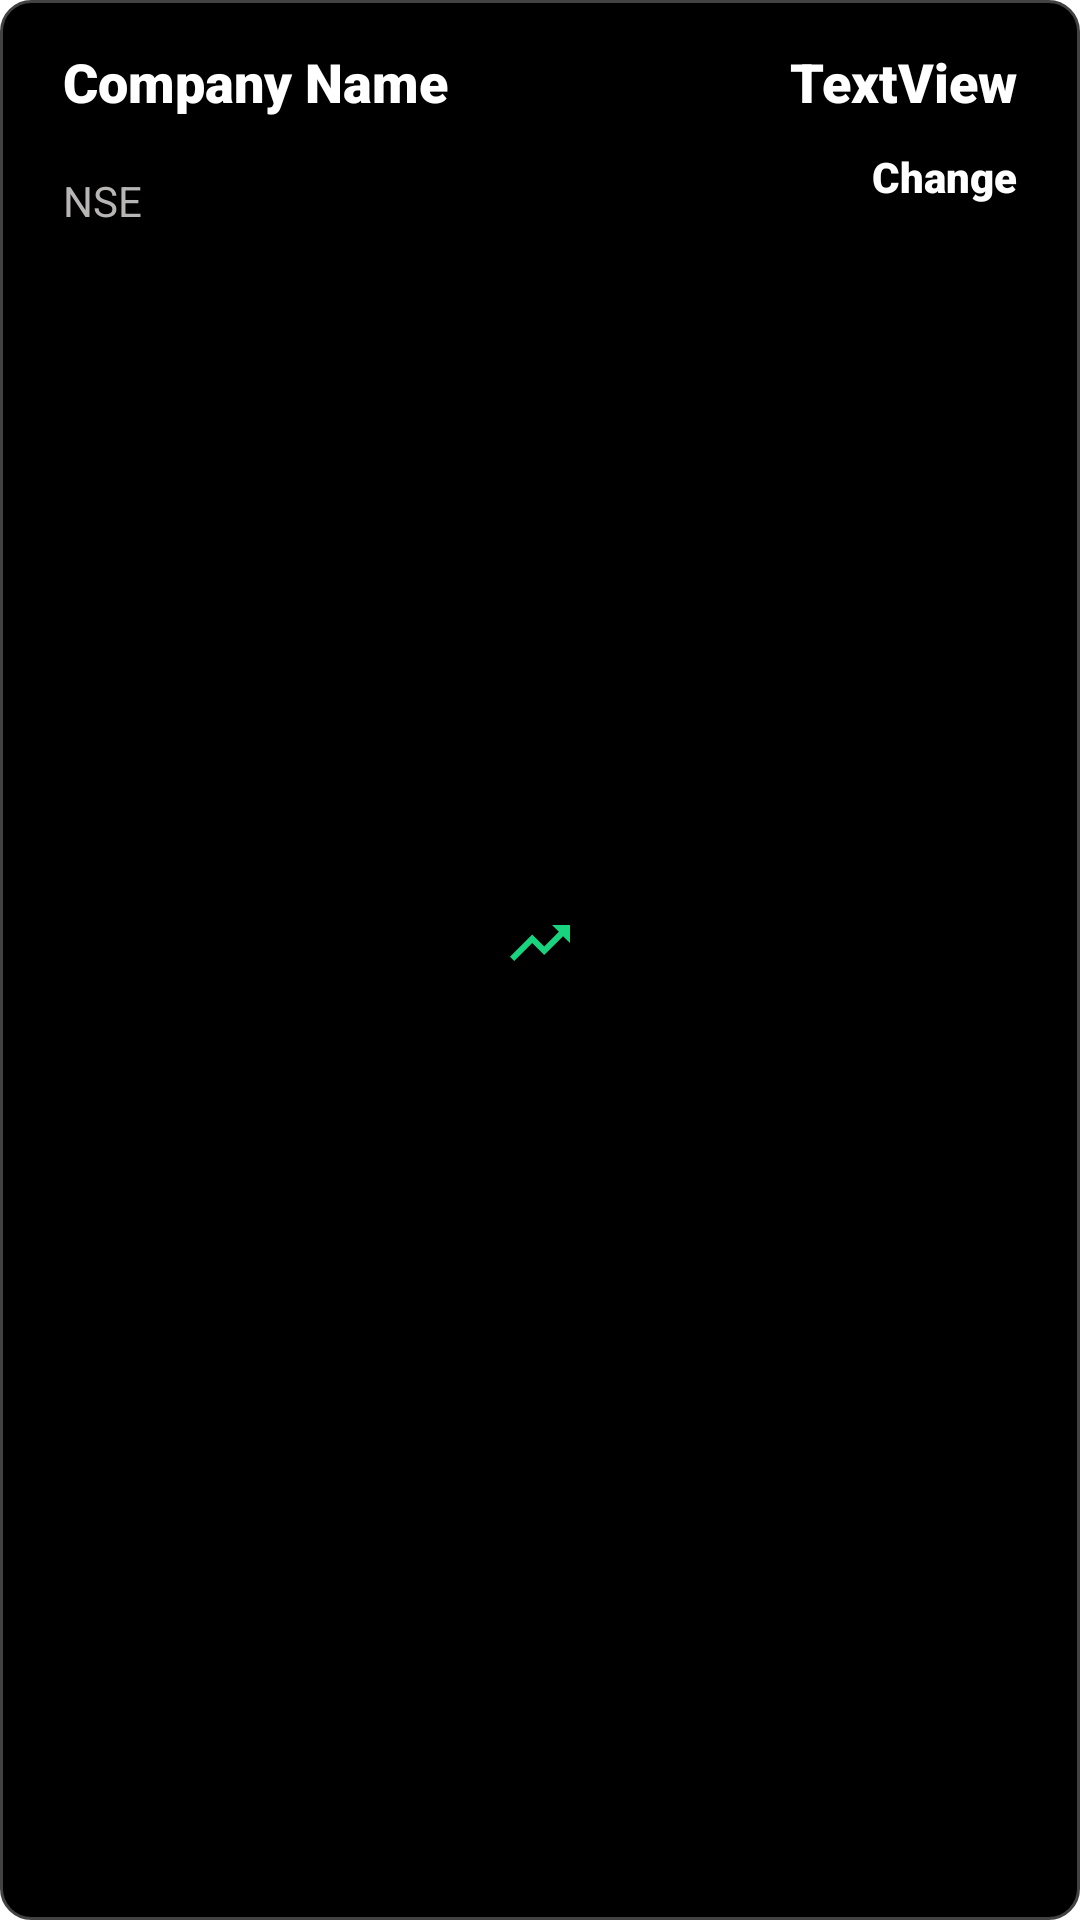

Named icons in this screenshot (1080px×1920px) and their centers, point (x, y):
trending up: point (540, 943)
